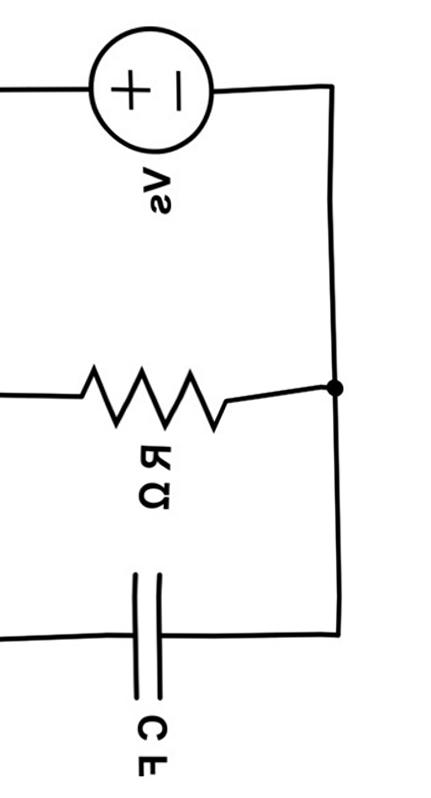Battery: (59, 11, 236, 160)
